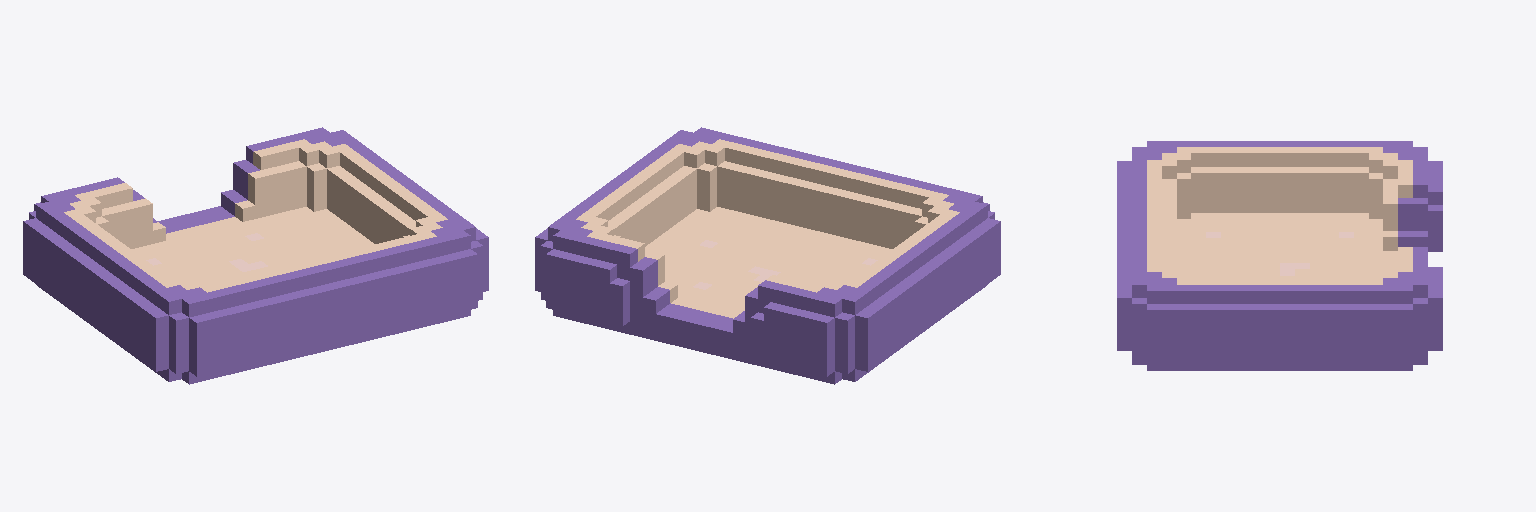
3 views of the same model, side by side, from view 1: azimuth 30°, elevation 25°; view 2: azimuth 150°, elevation 25°; view 3: azimuth 270°, elevation 25° (orthographic).
Visible parts, largest first — view 1: object 1; view 2: object 1; view 3: object 1.
Part boxes in pixels (x1,y1,x2,y2): object 1: (23,127,488,384); object 1: (535,127,1000,384); object 1: (1117,141,1442,370).
Bounding box in the file's own units: 2.6 × 0.6 × 2.2.
1 materials, 1 textured.